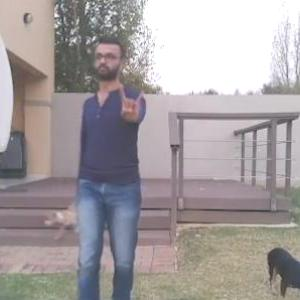takeoff-hand: (114, 81, 154, 122)
